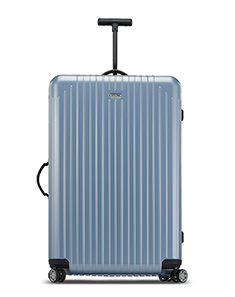luggage: (35, 14, 195, 286)
